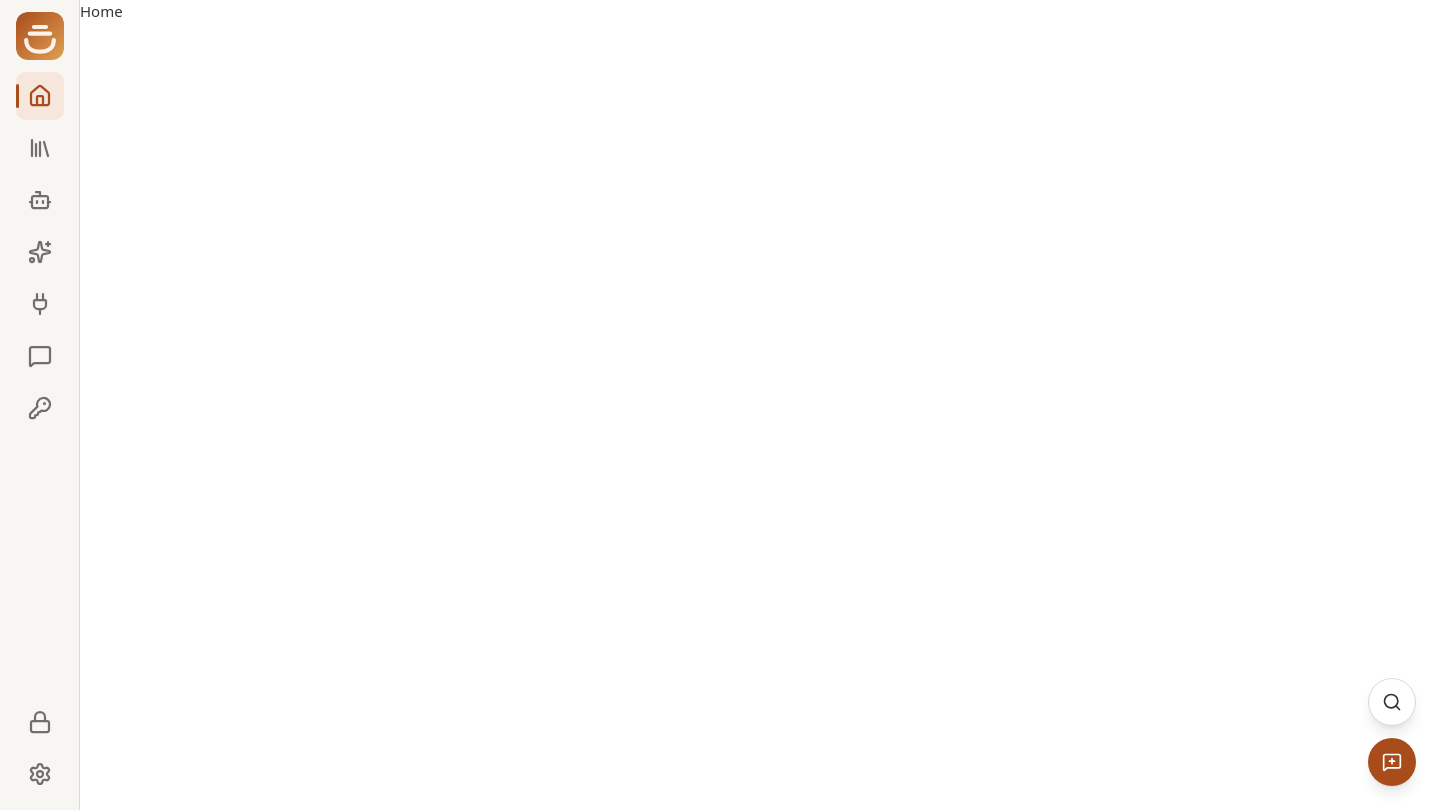
Scenario: selecting a chat result navigates to /chats?chat=<id>, not the backend's per-chat url
expect the heading "Home" is shown: met, box top-left (80, 1), bottom-right (123, 21)
Press k
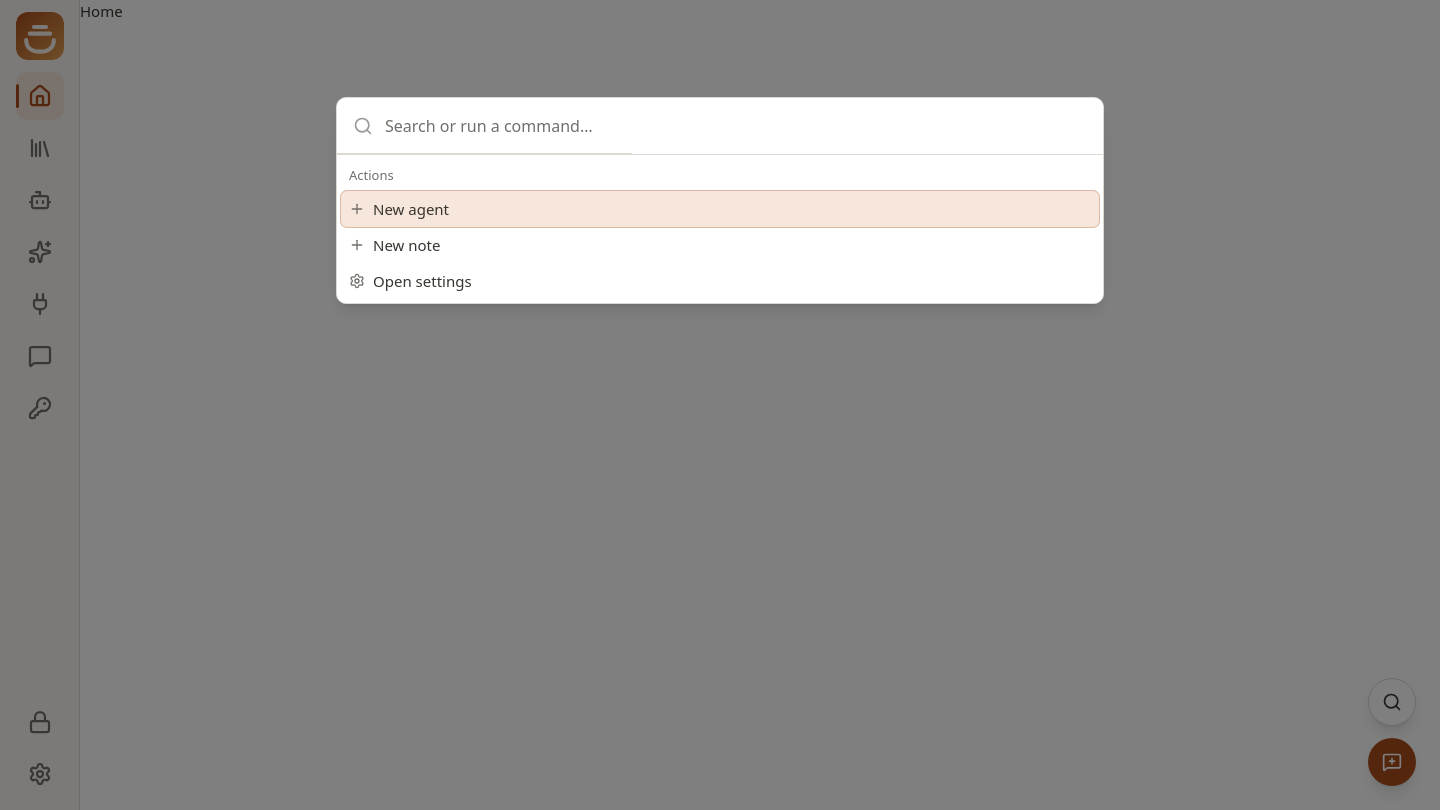
Type "trip" into the dropdown with placeholder "Search or run a command…".
click(500, 126); type("trip")  # box top-left (385, 102), bottom-right (616, 150)
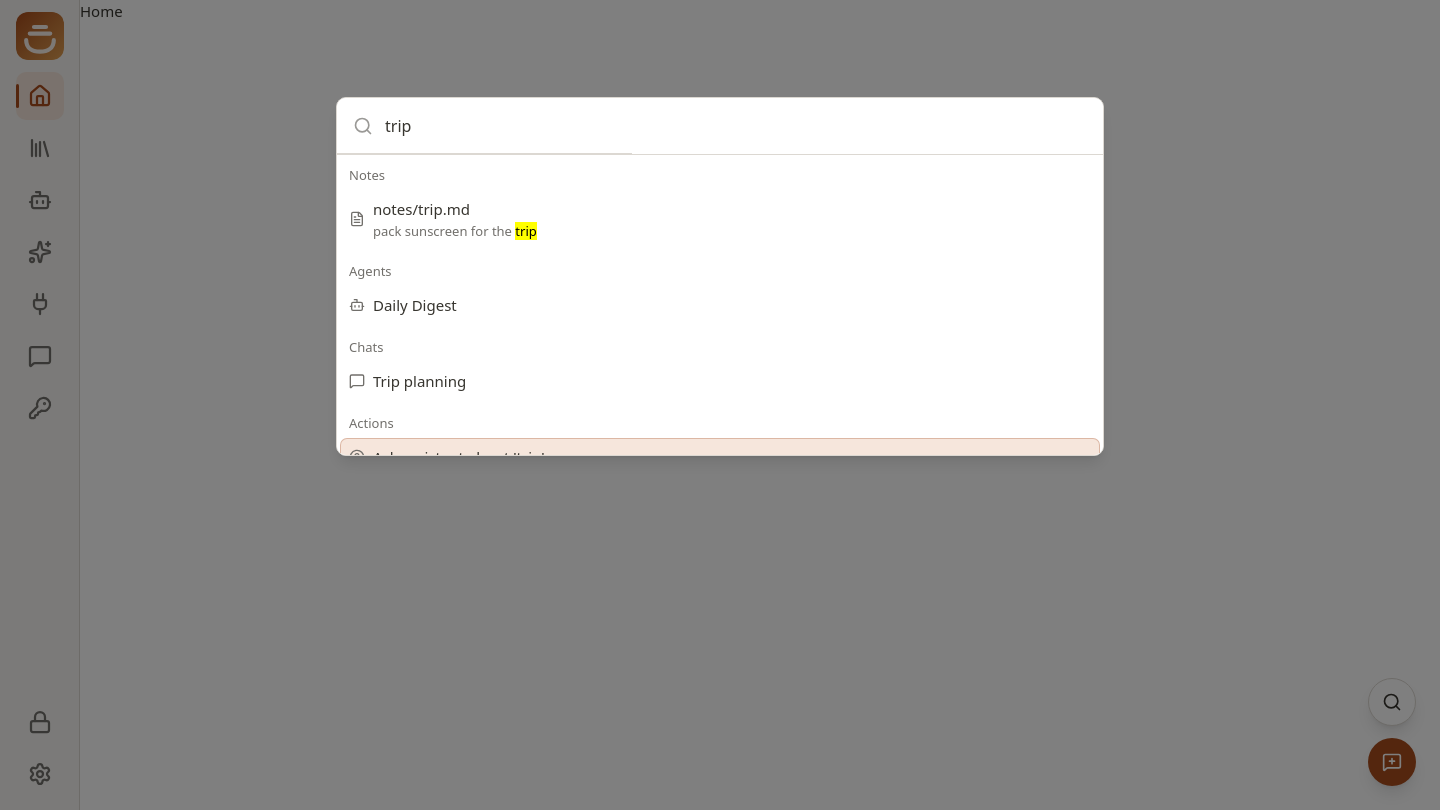
Click the option "Trip planning".
click(408, 381)  # box top-left (349, 371), bottom-right (466, 391)
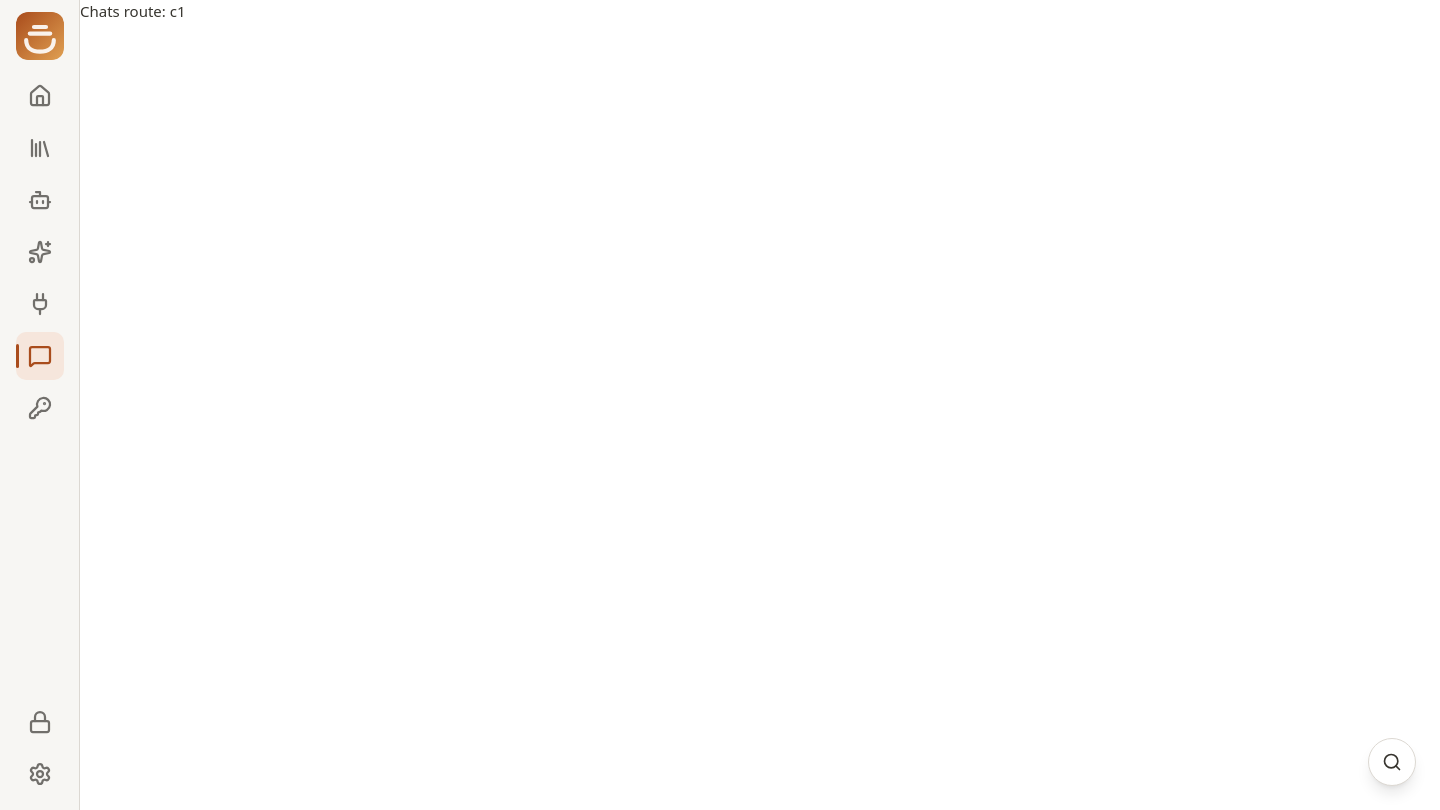
expect the text "Chats route: c1" is shown: met, box top-left (80, 1), bottom-right (186, 21)
